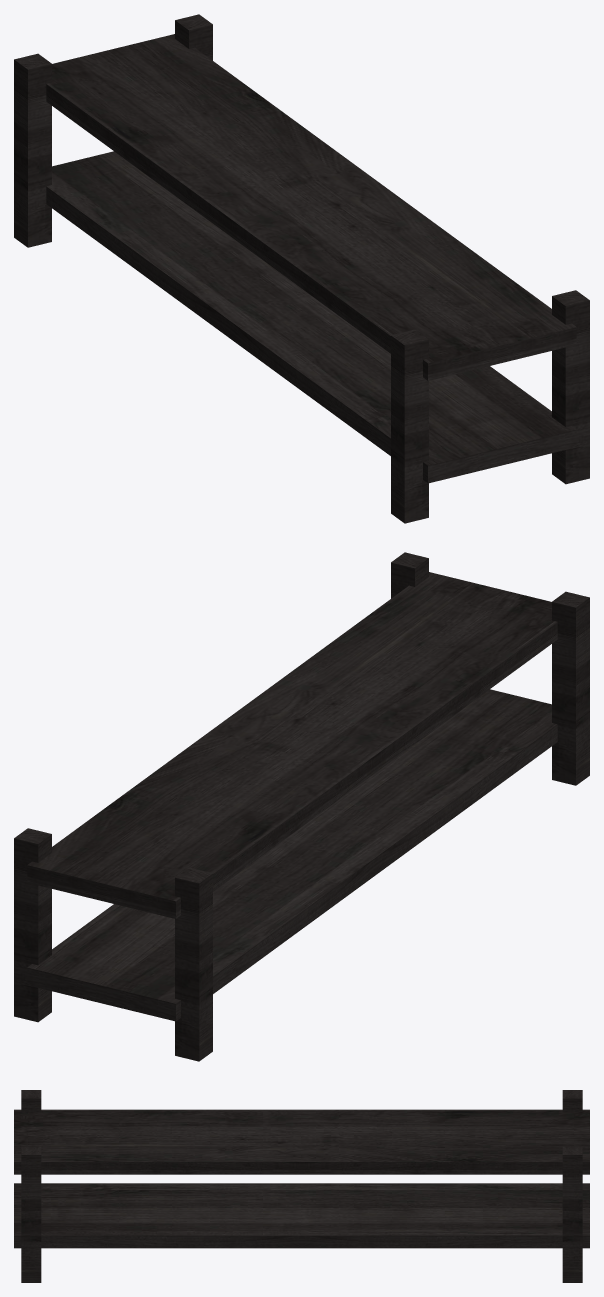
File: longTable.fbx
3 views of the same model, one above another, from view 1: azimuth 30°, elevation 25°; view 2: azimuth 150°, elevation 25°; view 3: azimuth 270°, elevation 25° (orthographic). The views are drawn at different scales.
Parts seen in each view (by area): view 1: Cube; view 2: Cube; view 3: Cube.
Part boxes in pixels (x1,y1,x2,y2): Cube: [14, 14, 589, 523]; Cube: [14, 552, 589, 1061]; Cube: [14, 1090, 589, 1282].
Bounding box in the file's own units: 353 × 324 × 1323.
